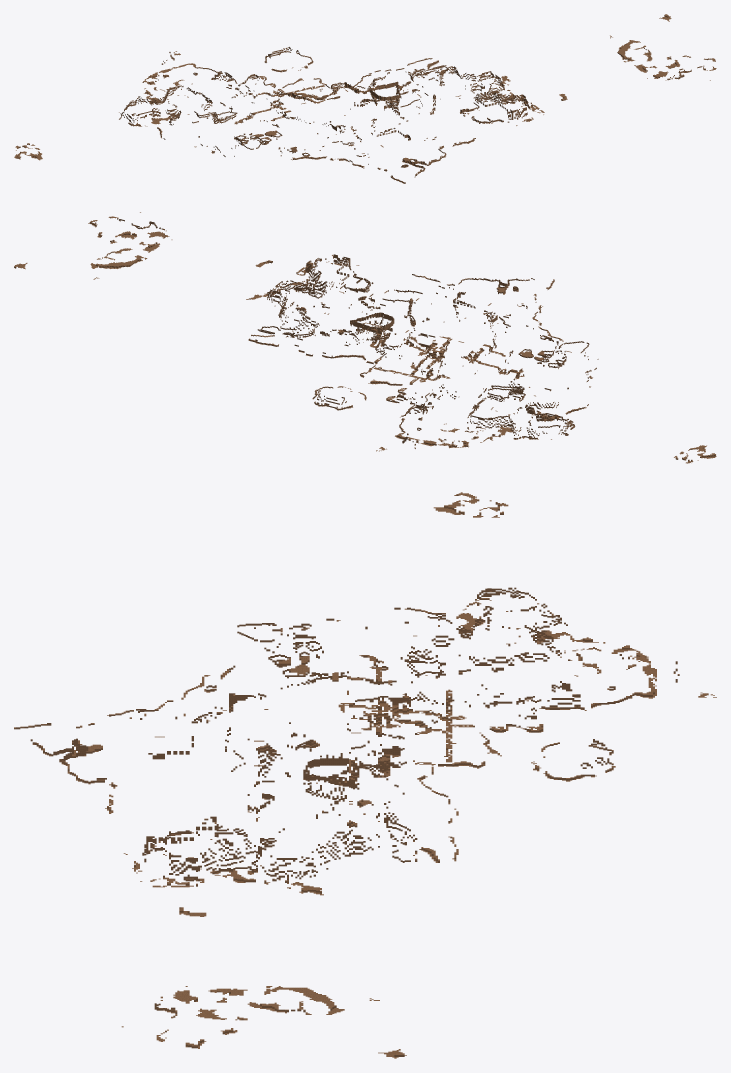
File: Dirt.fbx
3 renders of one model, top to bottom at view 1: azimuth 30°, elevation 25°; view 2: azimuth 150°, elevation 25°; view 3: azimuth 270°, elevation 25°, orthographic. The views are drawn at different scales.
Visible parts, largest first — view 1: Dirt; view 2: Dirt; view 3: Dirt.
Boxes of the visible parts, x1,y1,x2,y2 form: Dirt: (14,14,716,183); Dirt: (14,212,716,463); Dirt: (14,492,716,1058).
Bounding box in the file's own units: 64700 × 1900 × 34000.
Materials: 1 (1 with a texture image).
